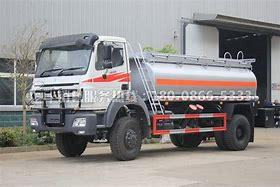oil truck: (23, 30, 262, 161)
